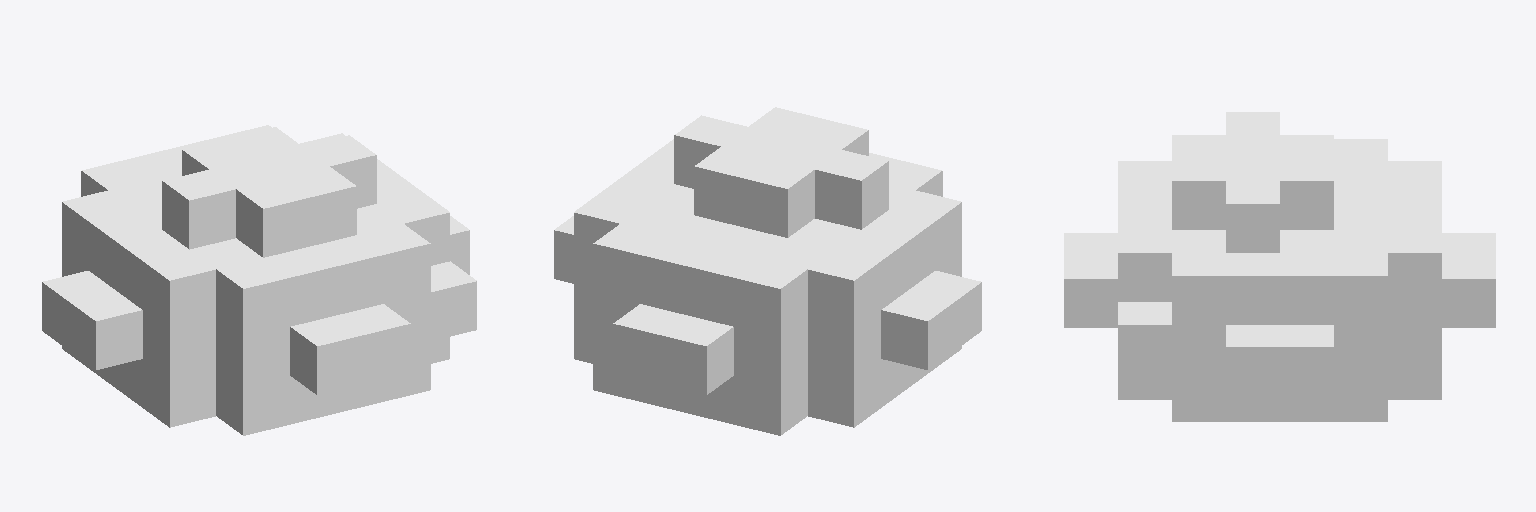
Rendered from HC_Cloud1.obj.
3 renders of one model, left to right at view 1: azimuth 30°, elevation 25°; view 2: azimuth 150°, elevation 25°; view 3: azimuth 270°, elevation 25°, orthographic.
Parts seen in each view (by area): view 1: HC_Cloud1; view 2: HC_Cloud1; view 3: HC_Cloud1.
Boxes of the visible parts, <box> form: HC_Cloud1: <box>42,125,476,435</box>; HC_Cloud1: <box>554,107,981,435</box>; HC_Cloud1: <box>1064,112,1495,421</box>.
Bounding box in the file's own units: 8 × 4 × 8.